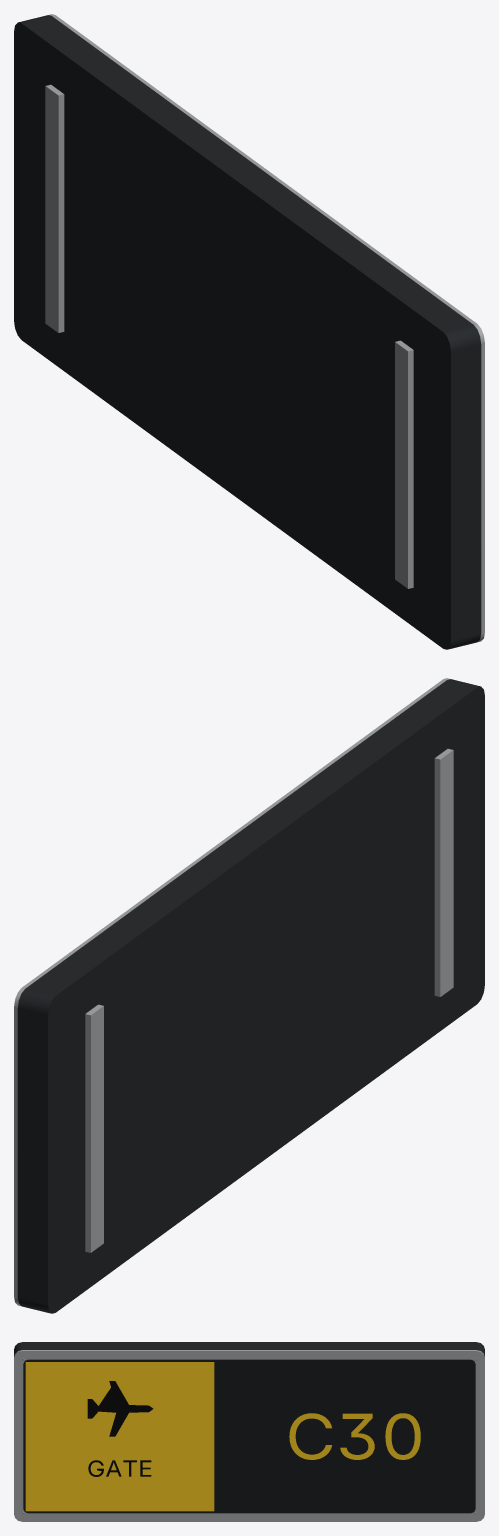
The model's file is gate_sign_c30.glb.
The picture shows the model from 3 angles, top to bottom: view 1: azimuth 30°, elevation 25°; view 2: azimuth 150°, elevation 25°; view 3: azimuth 270°, elevation 25°; orthographic projection. The views are drawn at different scales.
Parts seen in each view (by area): view 1: gateschild_1, gateschild_0; view 2: gateschild_1, gateschild_0; view 3: gateschild_2, gateschild_3, gateschild_0, gateschild_1, nummer, gateschild_4, gate.
Boxes of the visible parts, x1,y1,x2,y2 form: gateschild_1: (14, 15, 481, 649); gateschild_0: (45, 14, 484, 641); gateschild_1: (17, 679, 484, 1313); gateschild_0: (14, 678, 453, 1305); gateschild_2: (23, 1359, 475, 1513); gateschild_3: (25, 1362, 214, 1511); gateschild_0: (14, 1350, 484, 1521); gateschild_1: (14, 1342, 484, 1356); nummer: (289, 1413, 420, 1459); gateschild_4: (87, 1381, 153, 1436); gate: (88, 1460, 151, 1476).
Bounding box in the file's own units: 0.1077 × 0.8 × 2.
